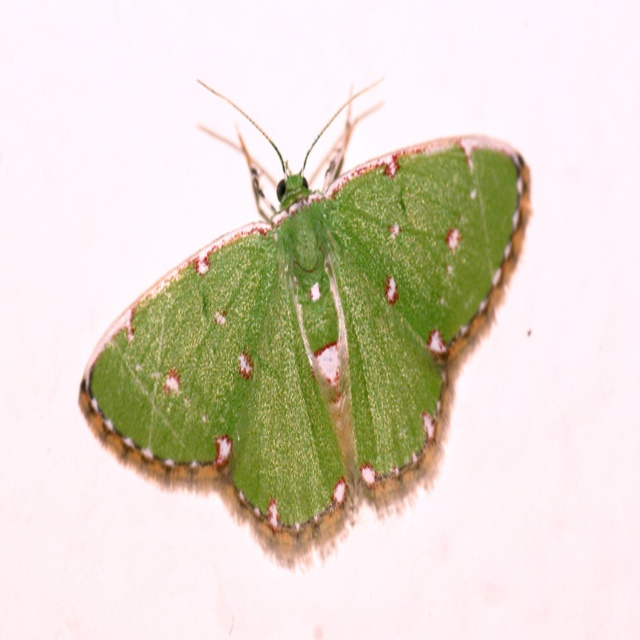Butterfly: (66, 80, 541, 577)
